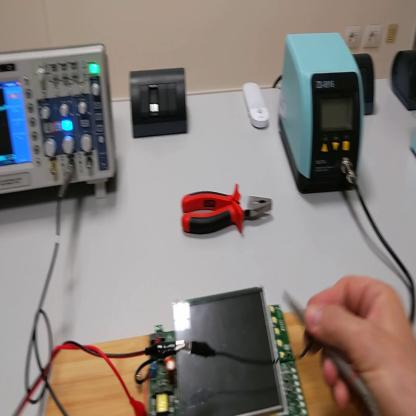hand: (299, 274, 416, 416)
low voltage board: (131, 286, 305, 416)
oscilloscope: (2, 36, 120, 203)
oscilloscope probe tip: (285, 292, 382, 414)
socket: (391, 47, 416, 114), (354, 51, 378, 118)
welder base: (410, 124, 416, 159)
welder station: (282, 27, 365, 195)
working area: (45, 306, 360, 412)
